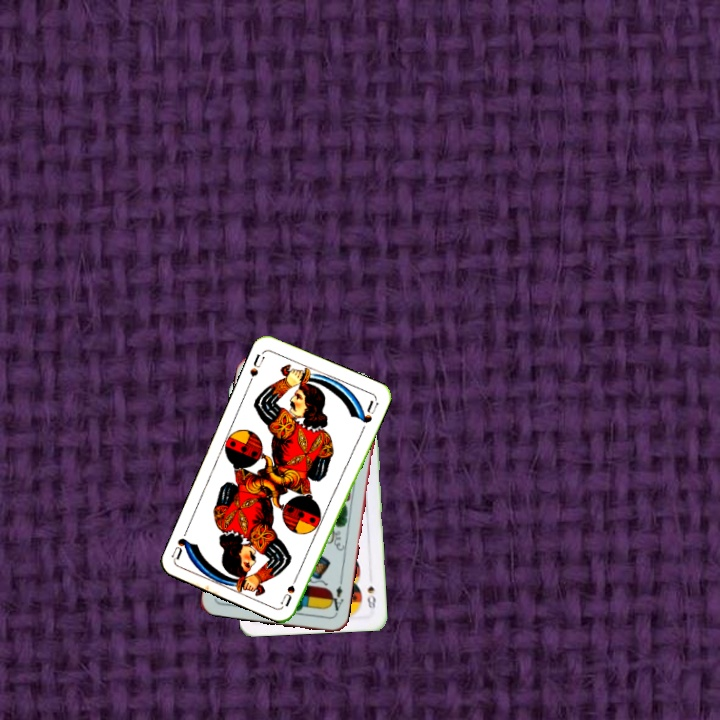EA: (325, 582, 346, 617)
S8: (363, 582, 378, 611)
SU: (278, 569, 302, 609), (245, 350, 267, 379)
